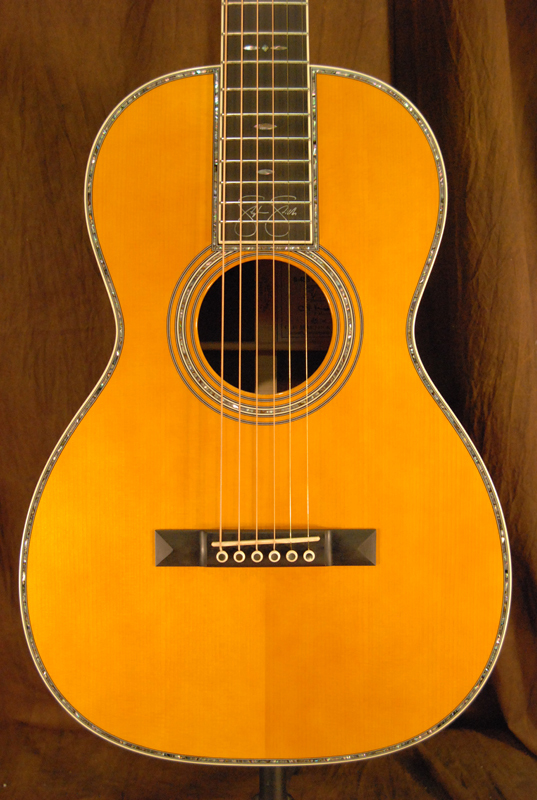guitar: (20, 1, 514, 767)
